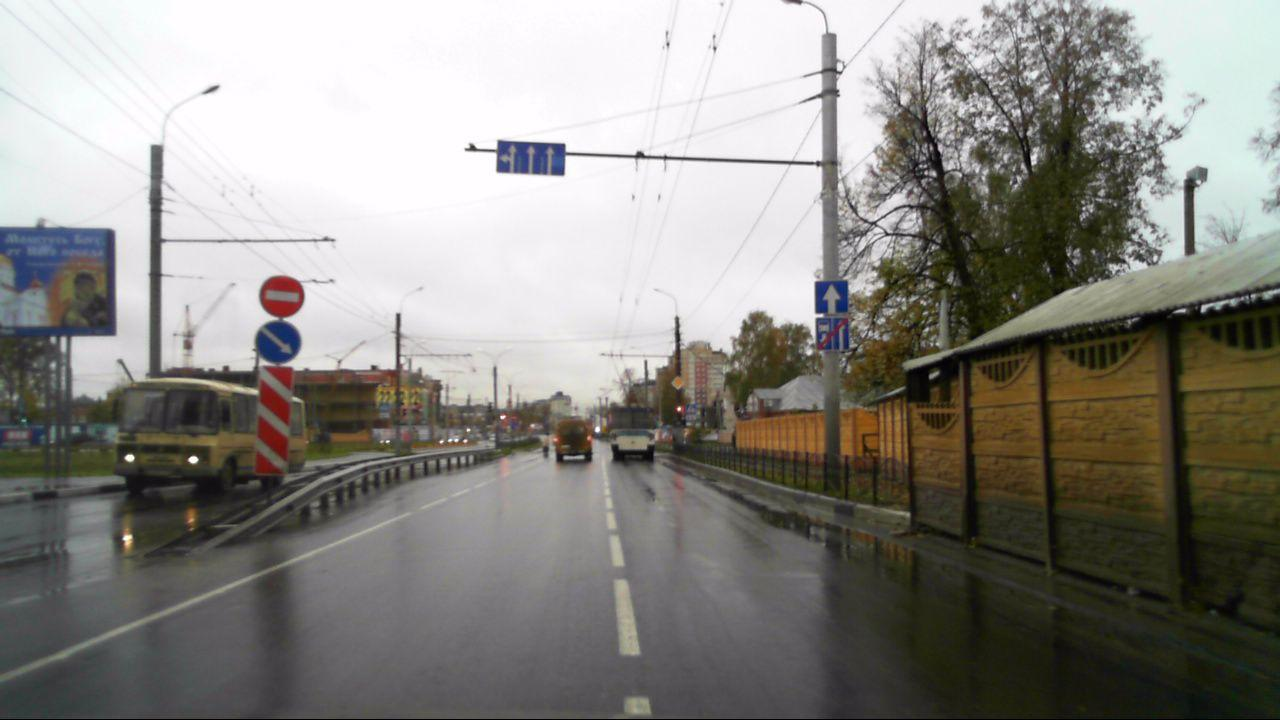2_1: (672, 373, 685, 390)
3_1: (257, 274, 307, 316)
4_2_1: (253, 320, 304, 365)
5_12_1: (815, 319, 848, 350)
5_15_1: (494, 140, 564, 174)
5_19_1: (686, 402, 697, 415)
5_5: (814, 277, 849, 314)
8_22_1: (253, 363, 294, 479)
